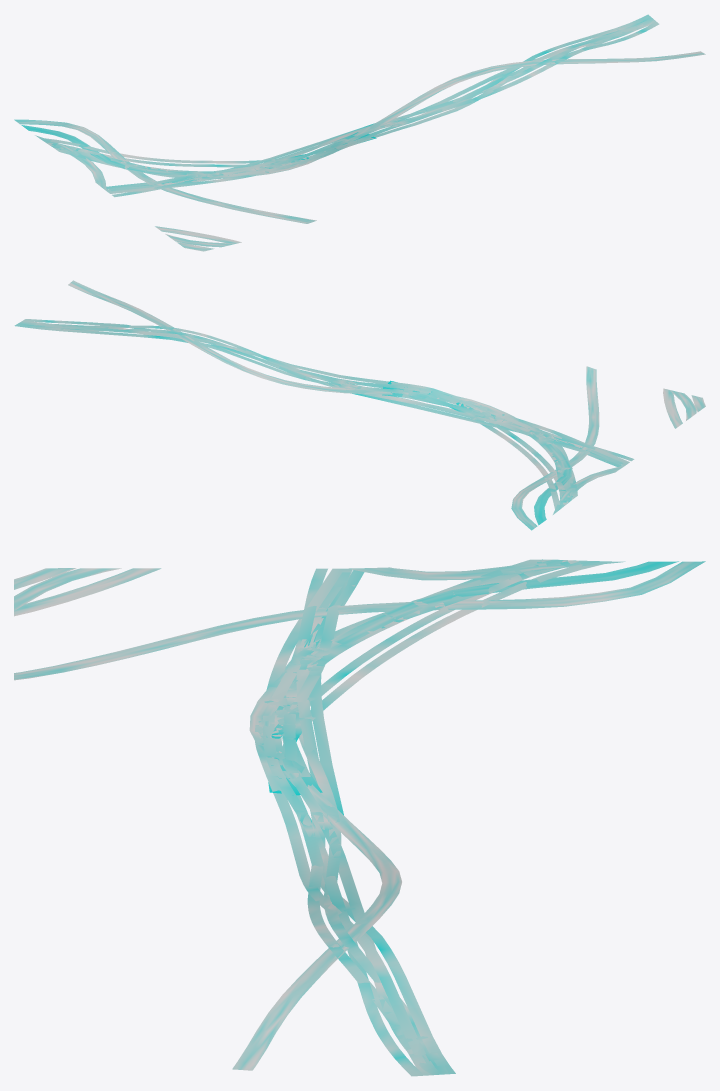
The model's file is cell_175_116.fbx.
3 views of the same model, one above another, from view 1: azimuth 30°, elevation 25°; view 2: azimuth 150°, elevation 25°; view 3: azimuth 270°, elevation 25° (orthographic). The views are drawn at different scales.
Parts seen in each view (by area): view 1: SpaceCenter_Long3_GenerateRoad_Sand_TireTracks_Narrow_Mesh_., SpaceCenter_Long3_GenerateRoad_Sand_TireTracks_Width_Mesh_x.; view 2: SpaceCenter_Long3_GenerateRoad_Sand_TireTracks_Narrow_Mesh_., SpaceCenter_Long3_GenerateRoad_Sand_TireTracks_Width_Mesh_x.; view 3: SpaceCenter_Long3_GenerateRoad_Sand_TireTracks_Narrow_Mesh_., SpaceCenter_Long3_GenerateRoad_Sand_TireTracks_Width_Mesh_x..
Boxes of the visible parts, x1,y1,x2,y2 form: SpaceCenter_Long3_GenerateRoad_Sand_TireTracks_Narrow_Mesh_.: (45, 14, 659, 197); SpaceCenter_Long3_GenerateRoad_Sand_TireTracks_Width_Mesh_x.: (14, 51, 705, 251); SpaceCenter_Long3_GenerateRoad_Sand_TireTracks_Narrow_Mesh_.: (14, 319, 634, 509); SpaceCenter_Long3_GenerateRoad_Sand_TireTracks_Width_Mesh_x.: (68, 280, 705, 530); SpaceCenter_Long3_GenerateRoad_Sand_TireTracks_Narrow_Mesh_.: (255, 559, 602, 1076); SpaceCenter_Long3_GenerateRoad_Sand_TireTracks_Width_Mesh_x.: (14, 560, 705, 1070).
Size of the model in its own units: 64 by 2.52 by 34.74.
